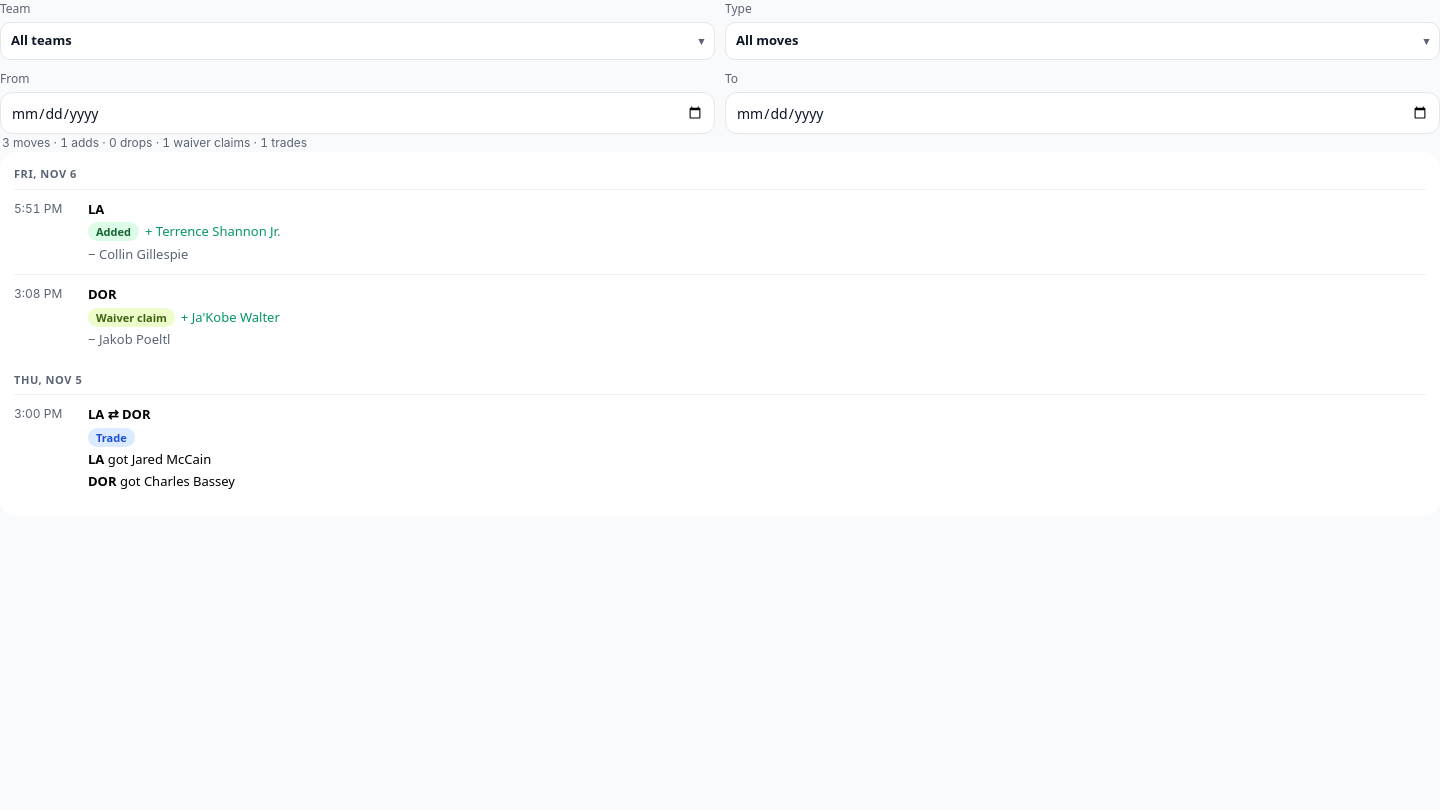
Test: MobileActivityFeed › Team and Type are bottom-sheet pickers
The image size is (1440, 810).
Click the button with aria-label "Type: All moves".
click(767, 40)  # box [725,22,1439,60]
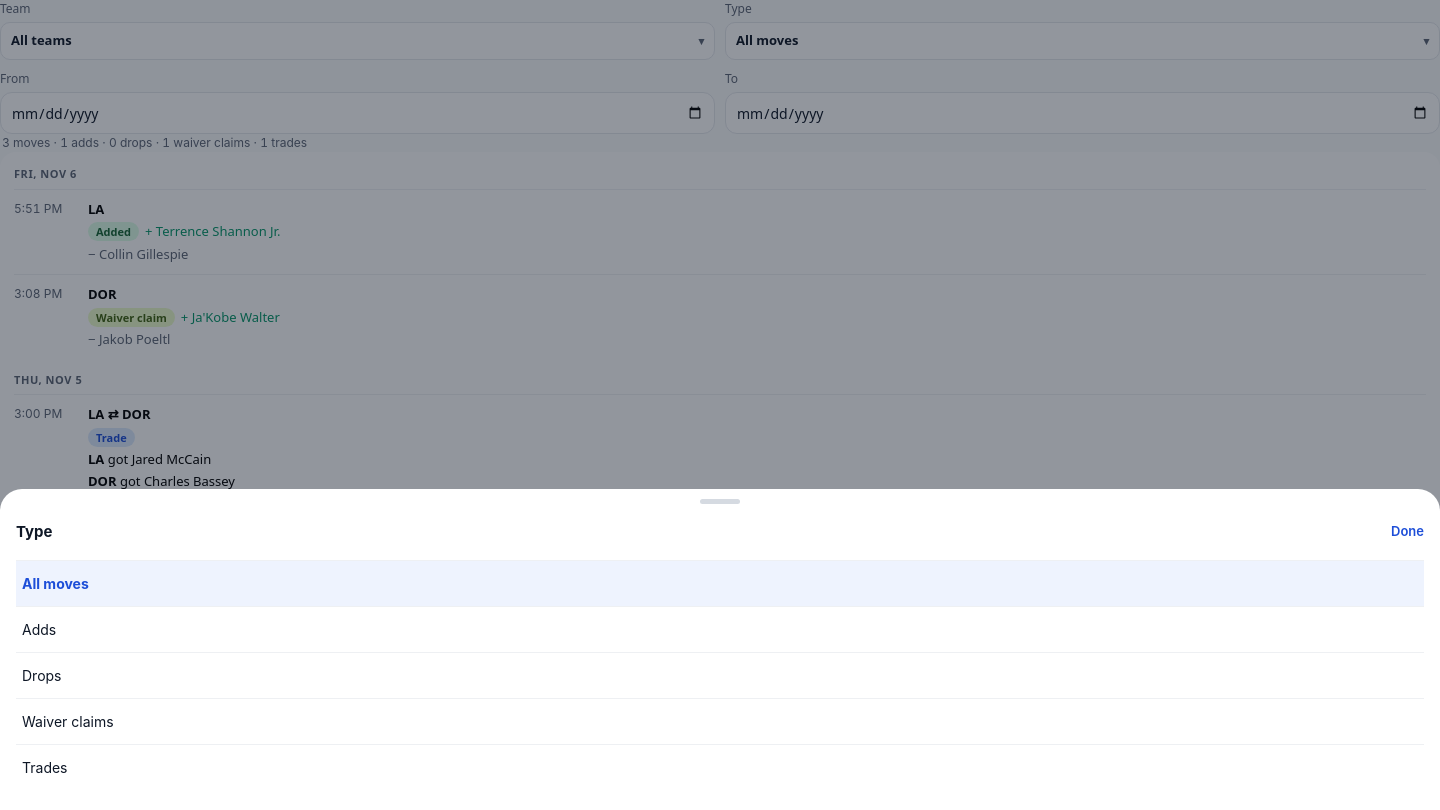
Click the option "Trades".
click(45, 768)  # box [16,744,1424,790]
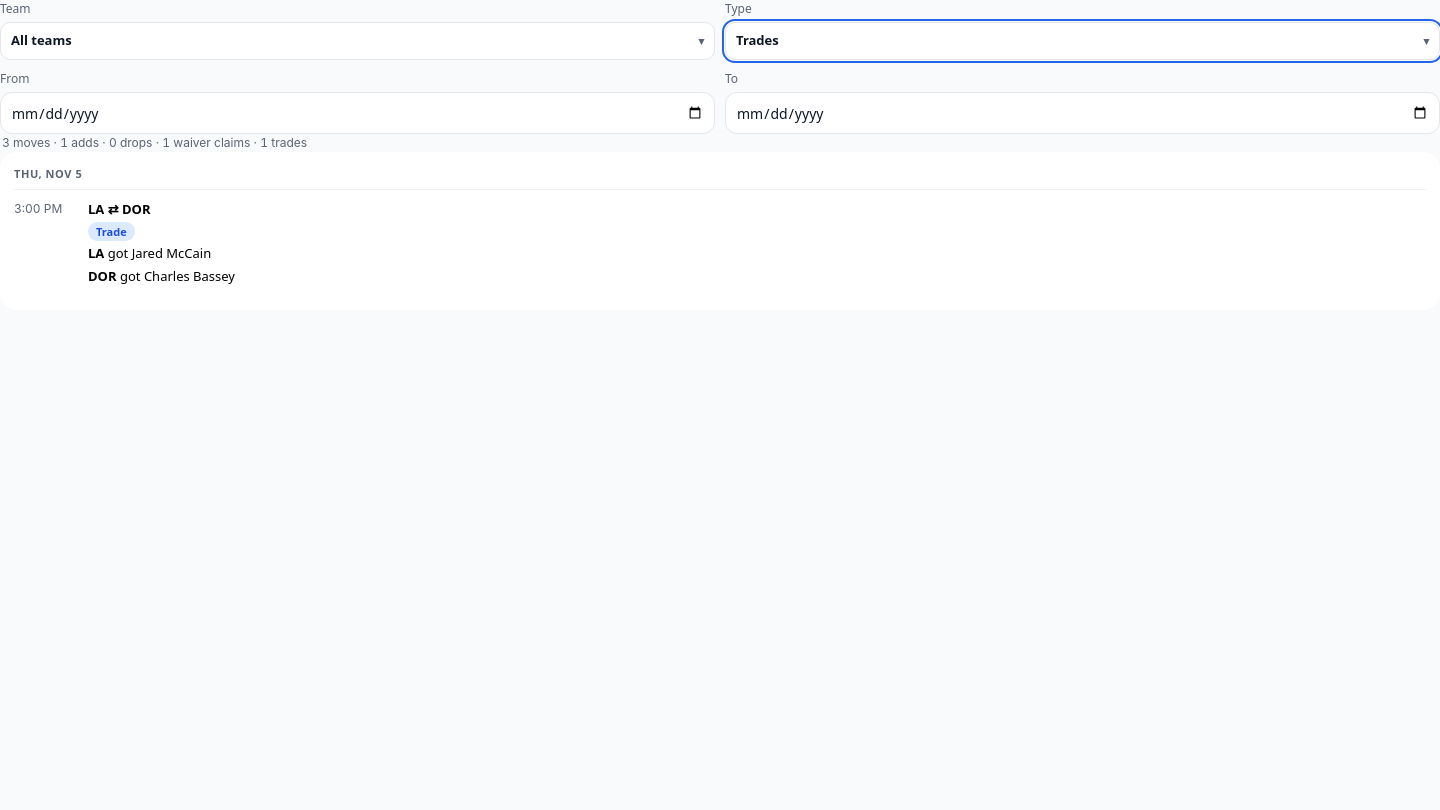
Check: the text "LA ⇄ DOR" is shown, box [88,200,150,219]
Check: the text "Added" is gone
Click the button with aria-label "Type: Trades".
click(757, 40)  # box [725,22,1439,60]
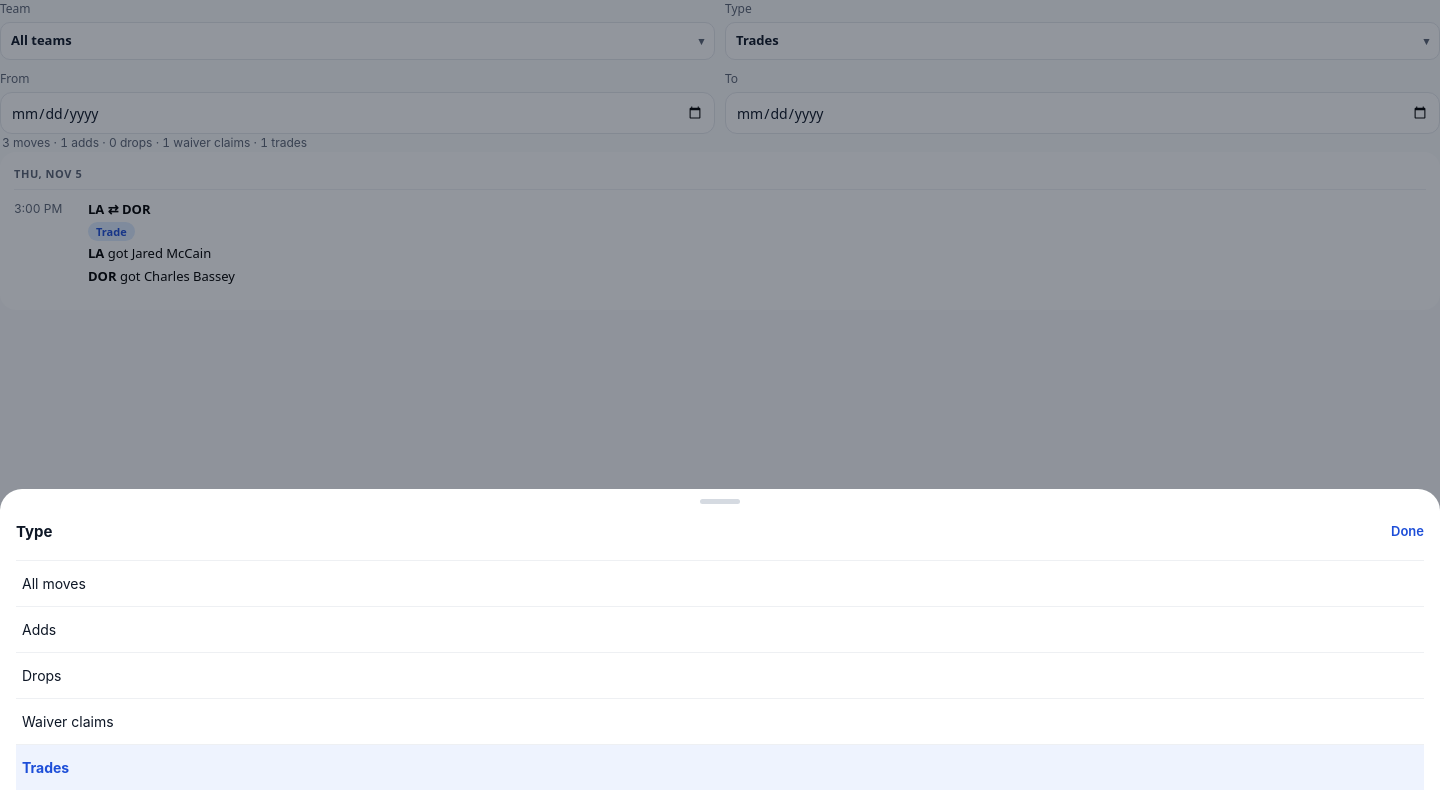
Click the option "All moves".
click(54, 584)  # box [16,560,1424,606]
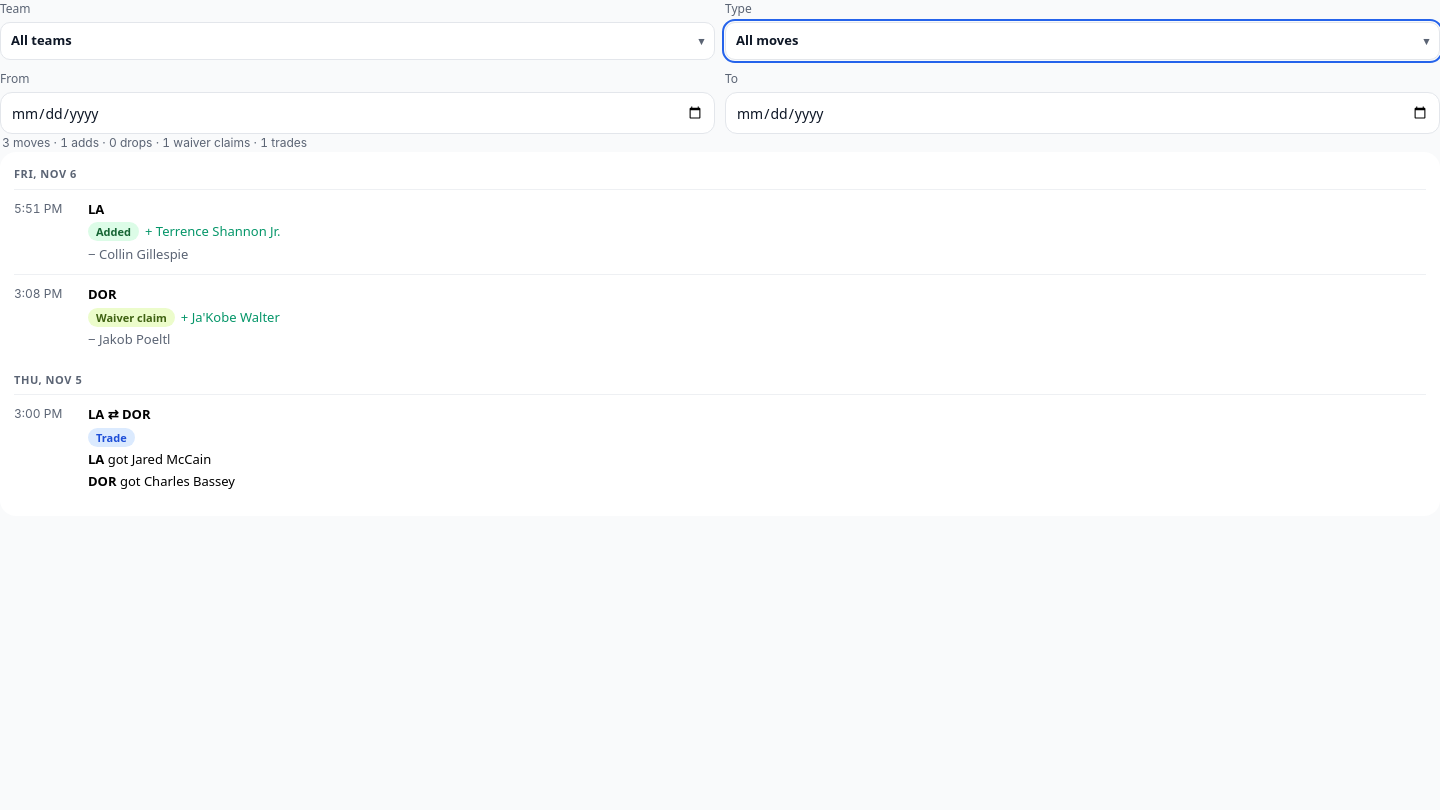
Click the button with aria-label "Team: All teams".
click(41, 40)  # box [0,22,715,60]
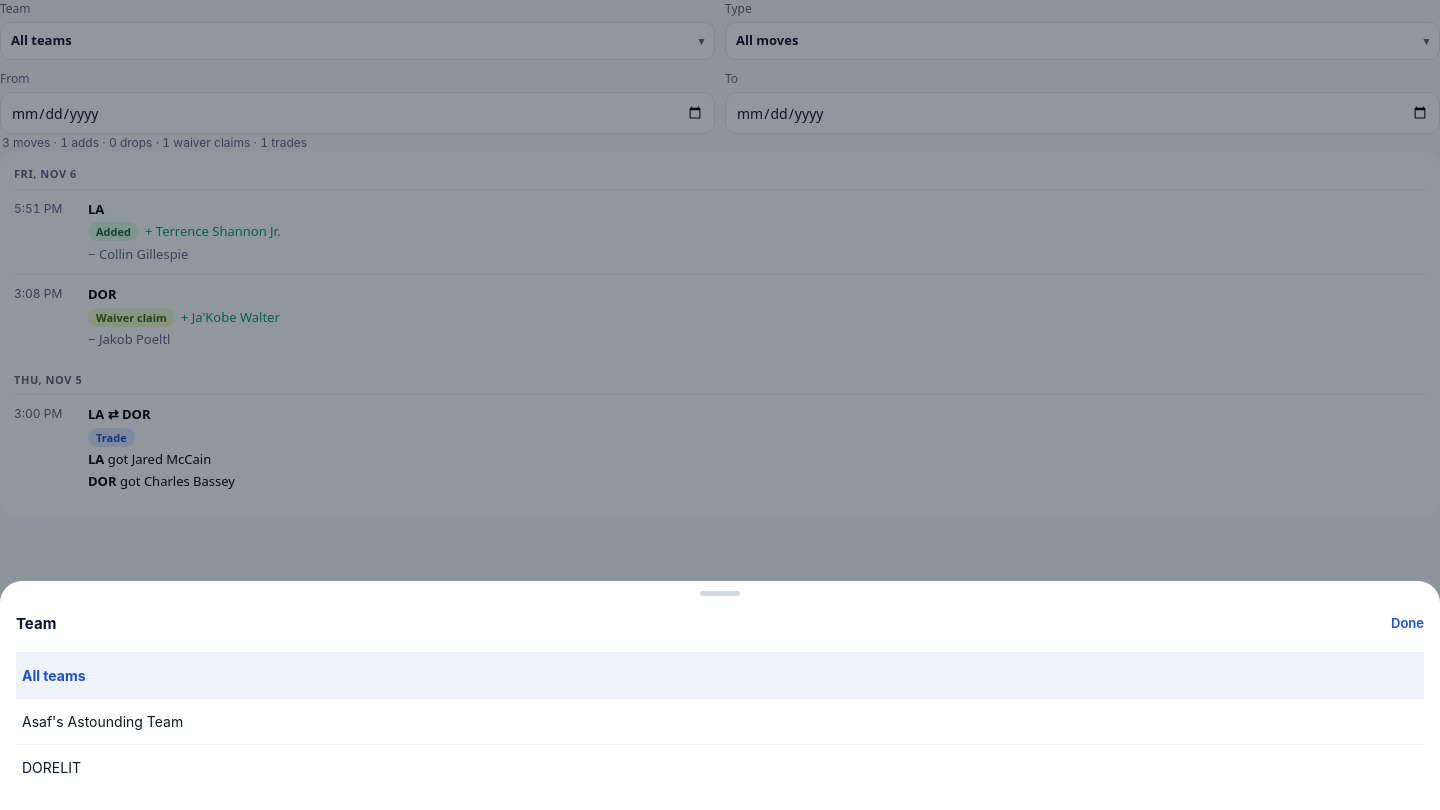
Click the option "DORELIT".
click(51, 768)  # box [16,744,1424,790]
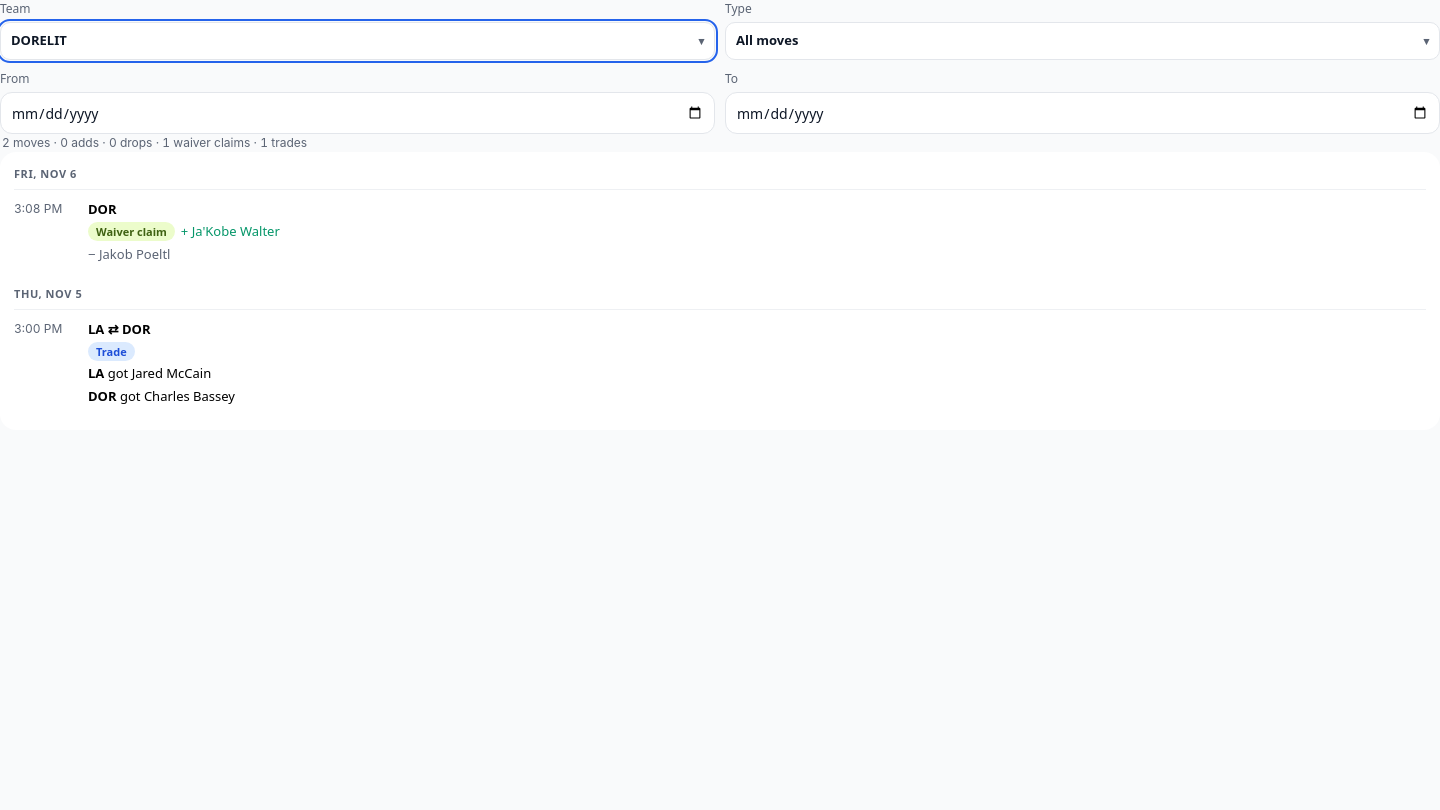
Check: the text "2 moves · 0 adds · 0 drops · 1 waiver claims · 1 trades" is shown, box [2,135,307,150]
